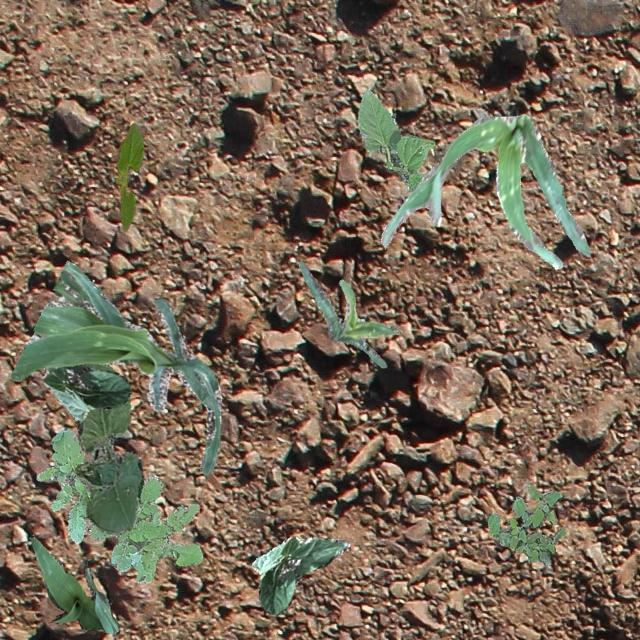crop: (9, 260, 220, 473), (380, 112, 590, 268), (72, 362, 142, 534), (298, 260, 398, 366), (30, 536, 119, 632), (356, 88, 434, 194), (250, 536, 348, 614), (41, 362, 130, 420), (114, 122, 142, 230)
weed: (35, 428, 202, 582), (486, 480, 564, 564)
